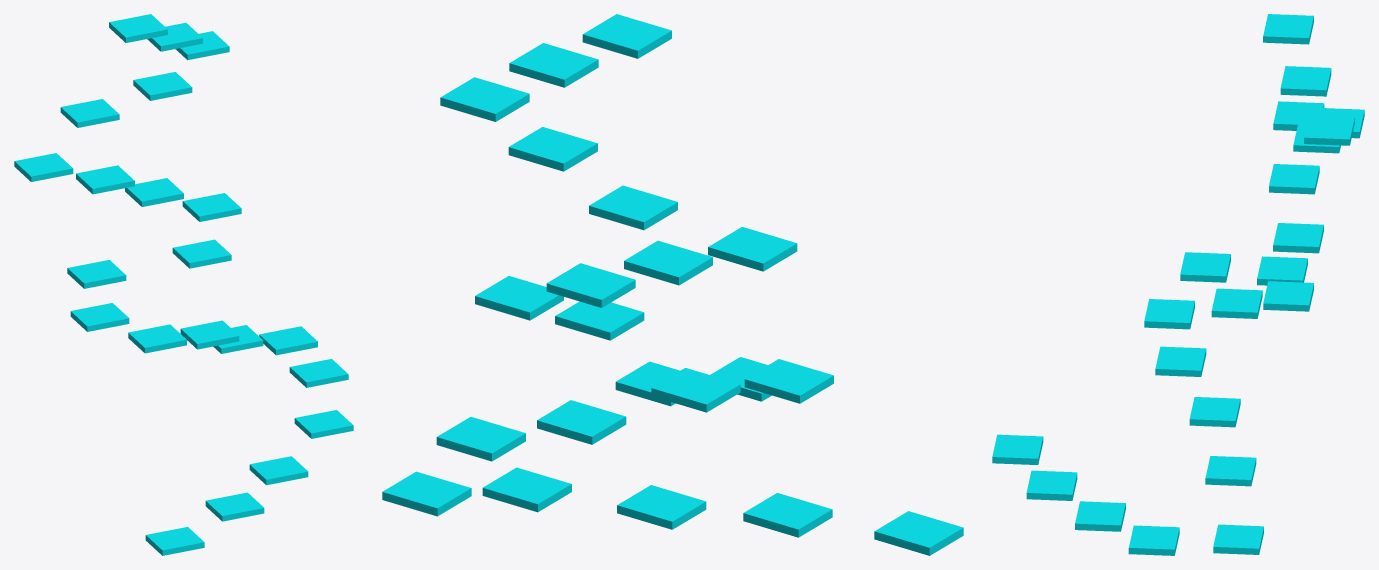
File: escaleras.glb
3 renders of one model, left to right at view 1: azimuth 30°, elevation 25°; view 2: azimuth 150°, elevation 25°; view 3: azimuth 270°, elevation 25°, orthographic. The views are drawn at different scales.
Visible parts, largest first — view 1: Escaleras; view 2: Escaleras; view 3: Escaleras.
Boxes of the visible parts, x1,y1,x2,y2 form: Escaleras: (14,14,353,555); Escaleras: (382,14,963,555); Escaleras: (992,14,1364,555).
Size of what is drawn, in the model's own units: 25.63 by 34.53 by 24.66.
1 material, 1 textured.
